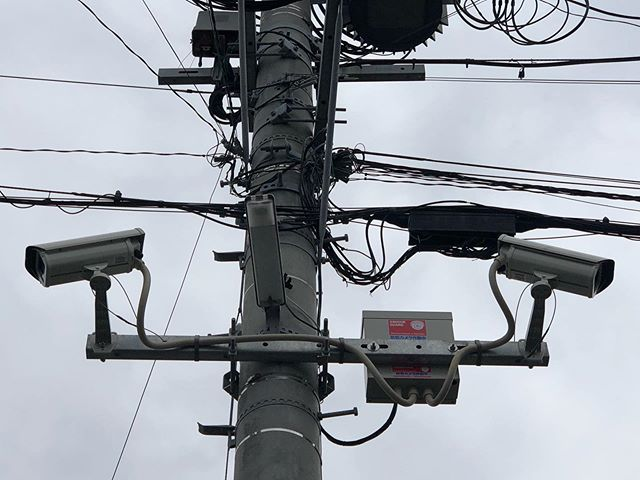camera: (457, 224, 638, 354), (6, 219, 176, 336)
power pole: (132, 8, 447, 480)
